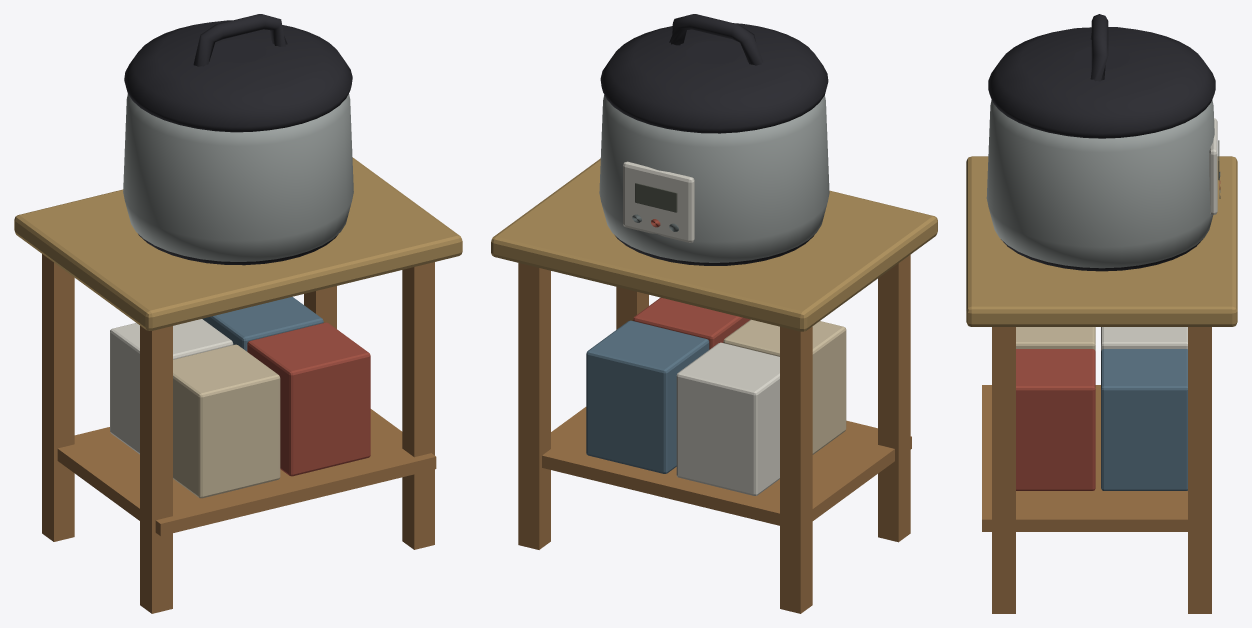
The model's file is cooker.glb.
3 renders of one model, left to right at view 1: azimuth 30°, elevation 25°; view 2: azimuth 150°, elevation 25°; view 3: azimuth 270°, elevation 25°, orthographic.
Parts seen in each view (by area): view 1: G010_cooker; view 2: G010_cooker; view 3: G010_cooker.
Part boxes in pixels (<box>): G010_cooker: <box>14,14,462,613</box>; G010_cooker: <box>491,14,937,613</box>; G010_cooker: <box>966,14,1237,613</box>.
Bounding box in the file's own units: 0.7001 × 1.1 × 0.52.
